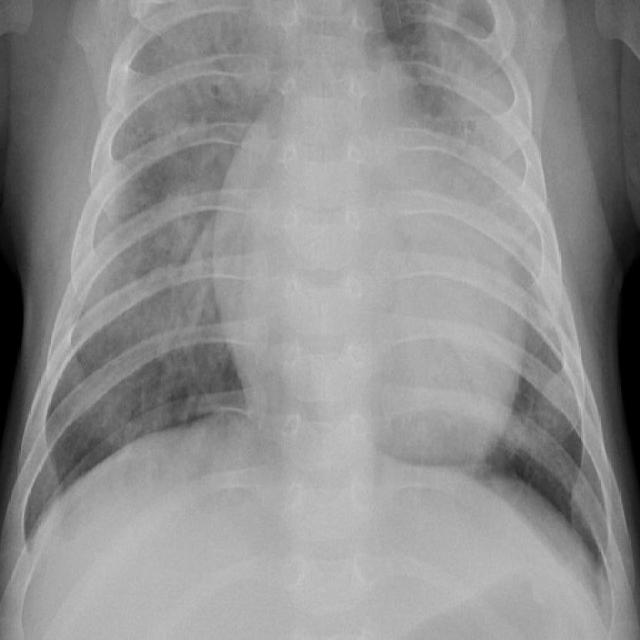low-pneumonia: (425, 2, 547, 268), (107, 184, 214, 350)
